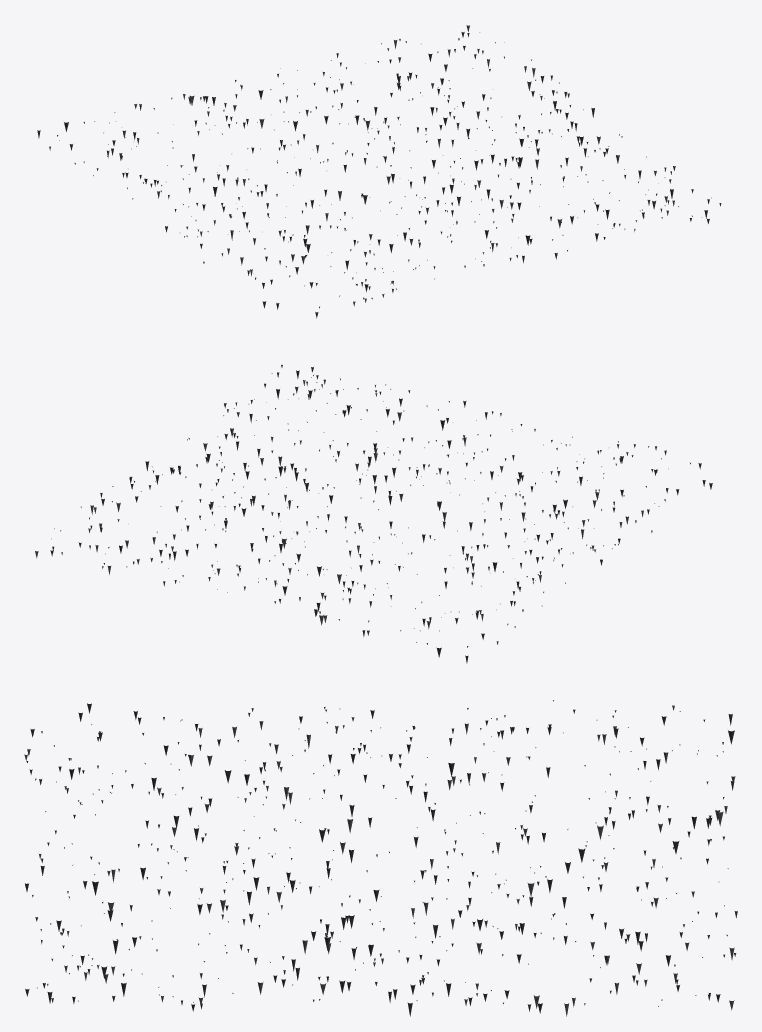
File: cave_ceiling.glb
The picture shows the model from 3 angles, top to bottom: view 1: azimuth 30°, elevation 25°; view 2: azimuth 150°, elevation 25°; view 3: azimuth 270°, elevation 25°; orthographic projection. The views are drawn at different scales.
Visible parts, largest first — view 1: cave_ceiling; view 2: cave_ceiling; view 3: cave_ceiling.
Part boxes in pixels (x1,y1,x2,y2): cave_ceiling: (37, 25, 721, 318); cave_ceiling: (35, 365, 712, 663); cave_ceiling: (24, 700, 737, 1016).
Size of the model in its own units: 512 by 22.15 by 512.
1 material, 1 textured.
